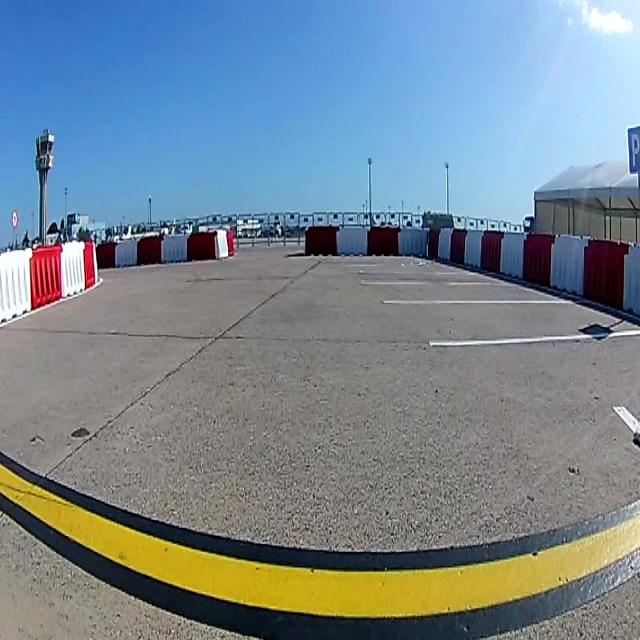park: (628, 126, 640, 174)
